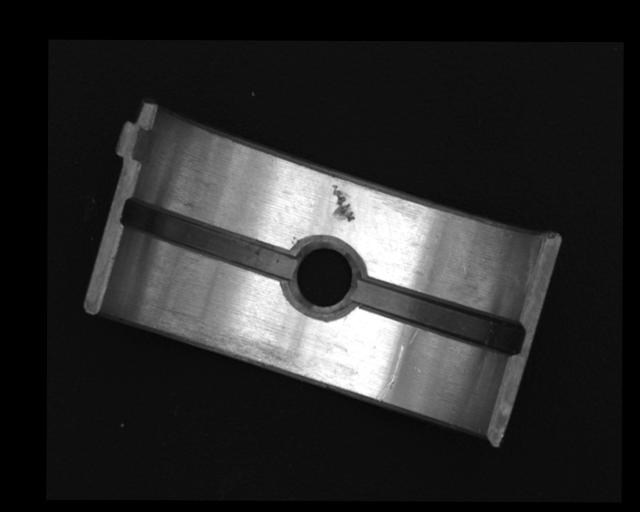bruise: (330, 182, 355, 223)
gap: (124, 197, 293, 281), (354, 280, 524, 353)
hole: (283, 239, 366, 316)
nick: (374, 344, 402, 402)
scratch: (145, 301, 360, 388)
